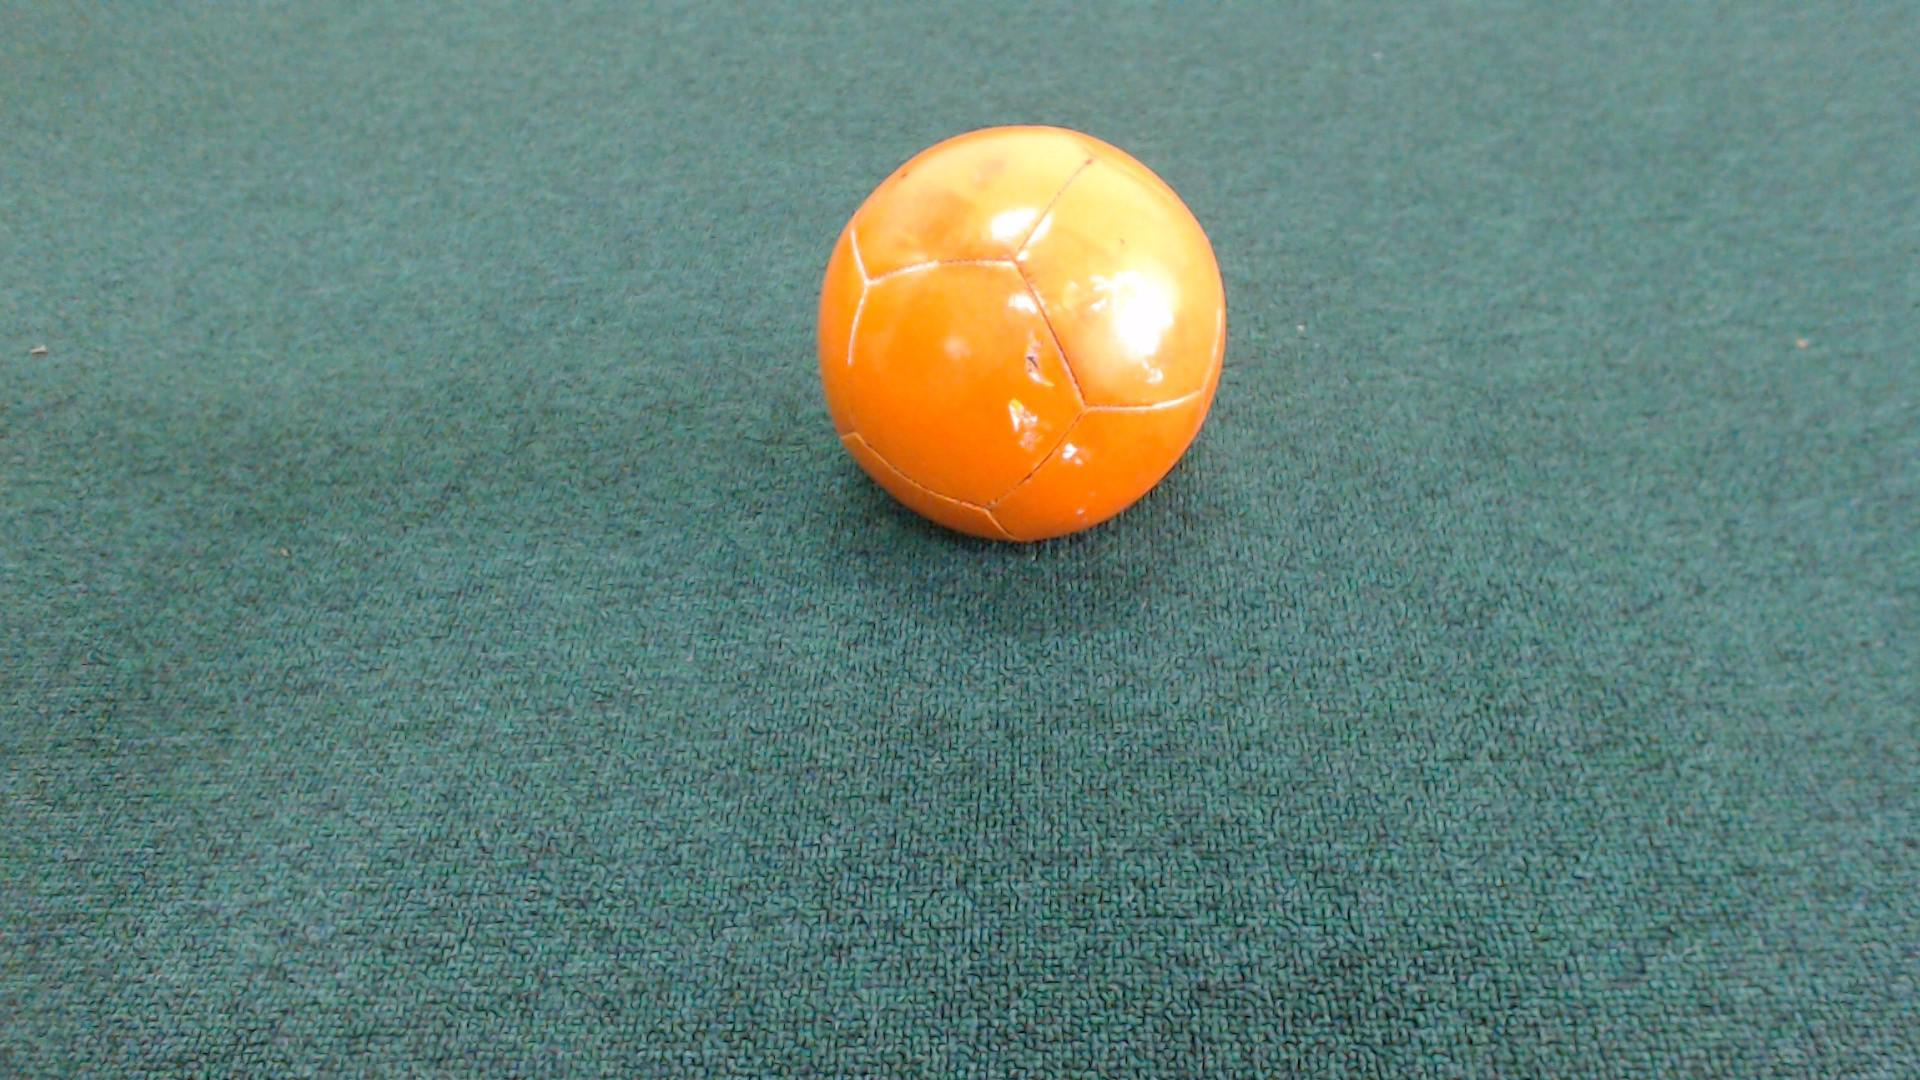bola: (779, 125, 1244, 563)
